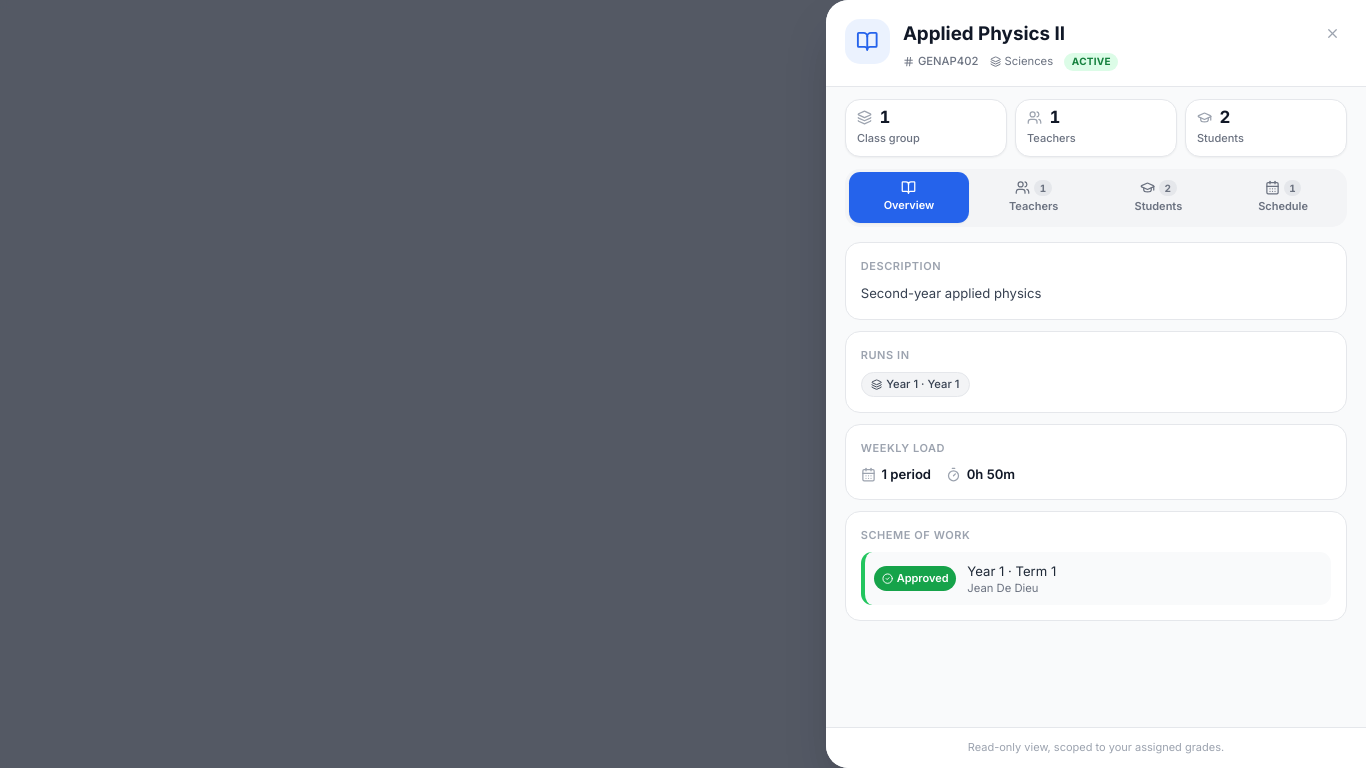
Test: SubjectDetailsPanel › switches to teachers, students and schedule
Expected: the text "Sciences" is shown, [990,54,1053,69]
Click the tab "1 Teachers" at {"x": 1034, "y": 198}, box [973,172,1094,223]
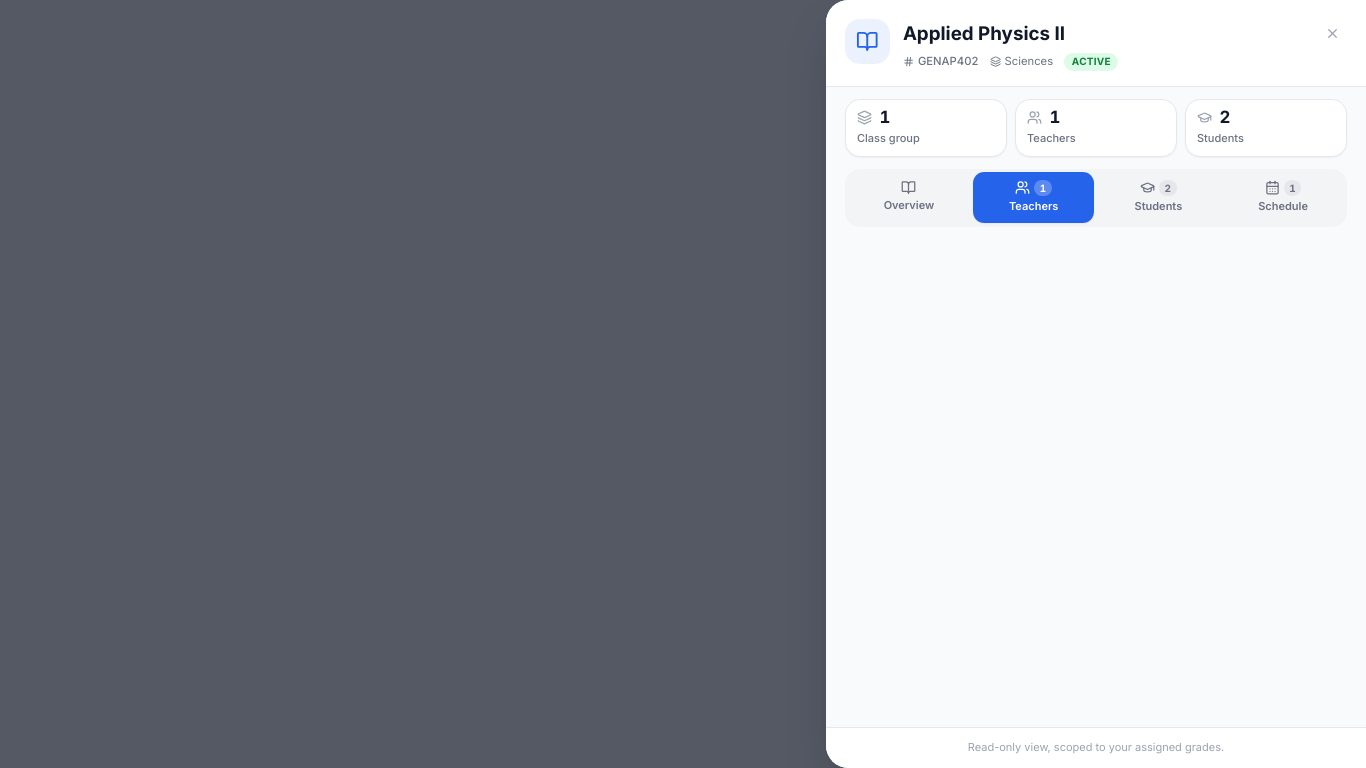
Click the tab "2 Students" at {"x": 1158, "y": 198}, box [1098,172,1219,223]
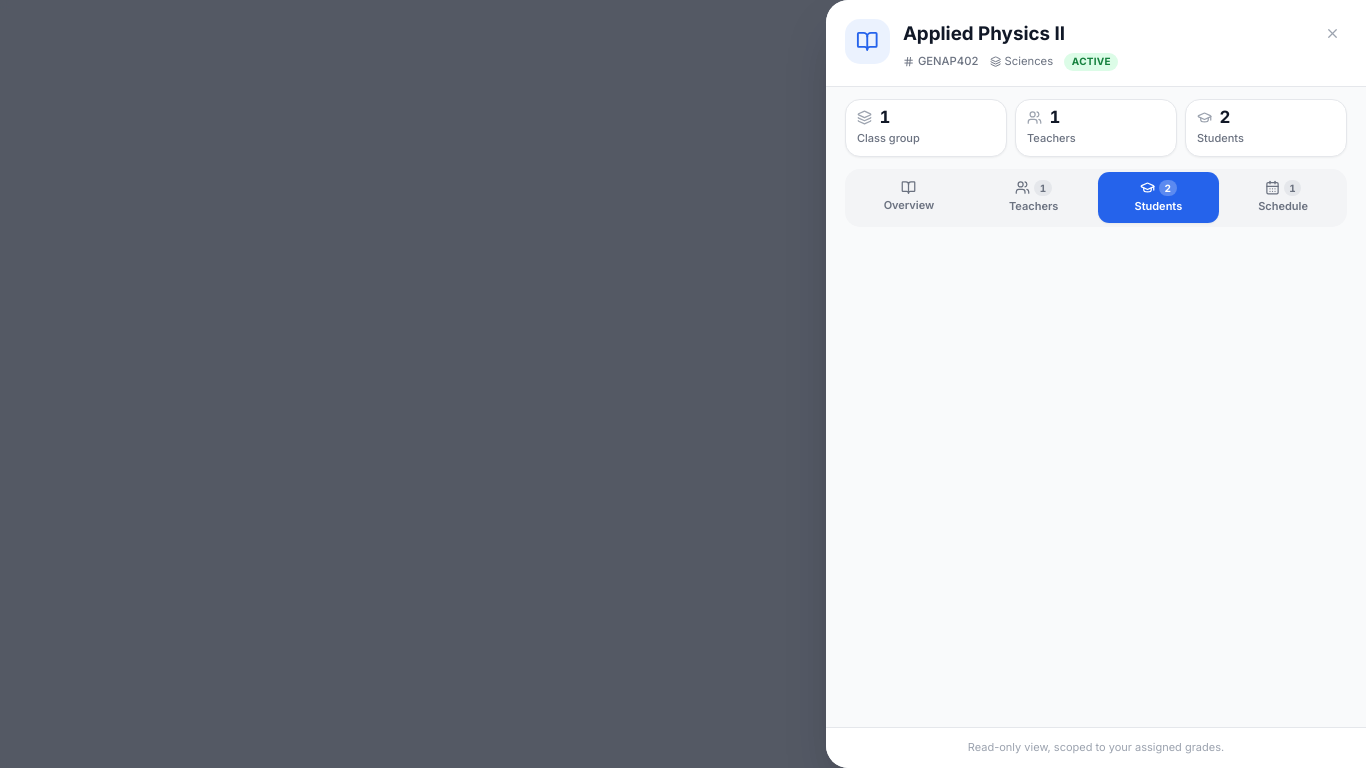
Click the tab "1 Schedule" at {"x": 1283, "y": 198}, box [1223,172,1344,223]
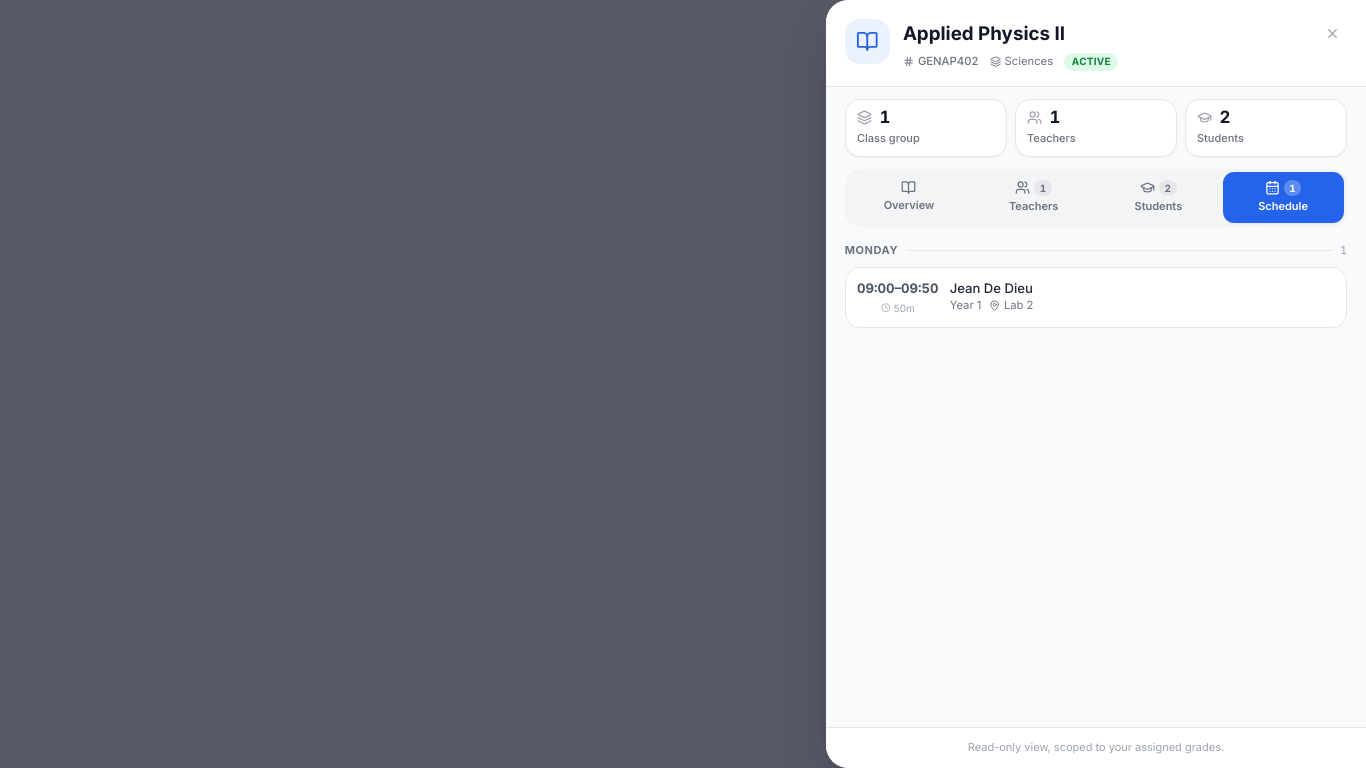
Expected: the text "Monday" is shown, [845,242,898,259]
Expected: the text "09:00–09:50" is shown, [857,279,938,298]
Expected: the text "Lab 2" is shown, [989,298,1034,313]
